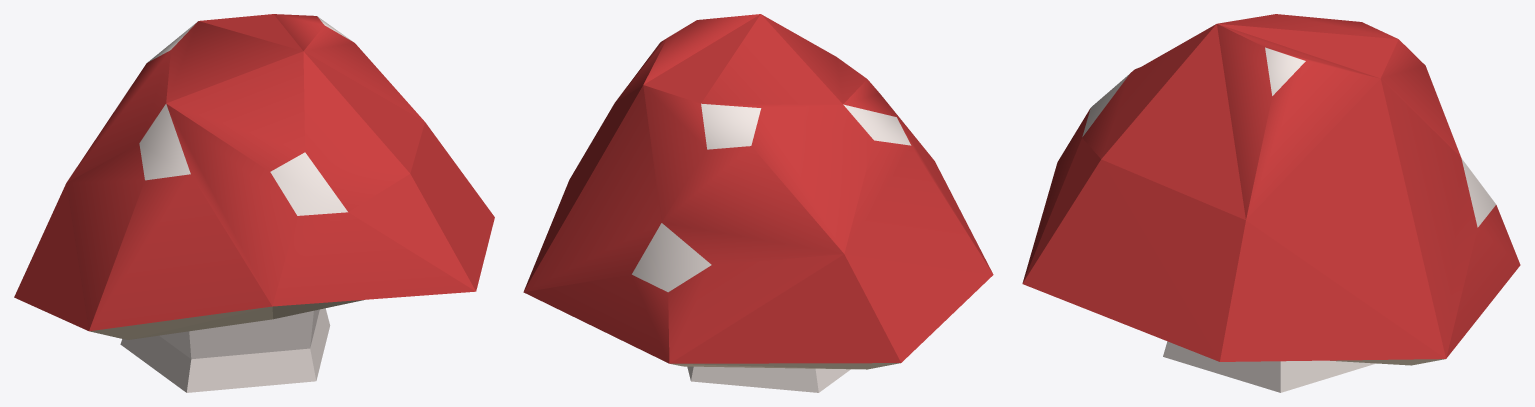
File: SM_Mushroom_Red_03.fbx
3 views of the same model, side by side, from view 1: azimuth 30°, elevation 25°; view 2: azimuth 150°, elevation 25°; view 3: azimuth 270°, elevation 25° (orthographic). The views are drawn at different scales.
Parts seen in each view (by area): view 1: SM_Mushroom_Red_03; view 2: SM_Mushroom_Red_03; view 3: SM_Mushroom_Red_03.
Part boxes in pixels (bbox=[...]): SM_Mushroom_Red_03: bbox=[14, 14, 494, 392]; SM_Mushroom_Red_03: bbox=[523, 14, 993, 392]; SM_Mushroom_Red_03: bbox=[1022, 14, 1520, 392].
Size of the model in its own units: 43.86 by 31 by 41.24.
